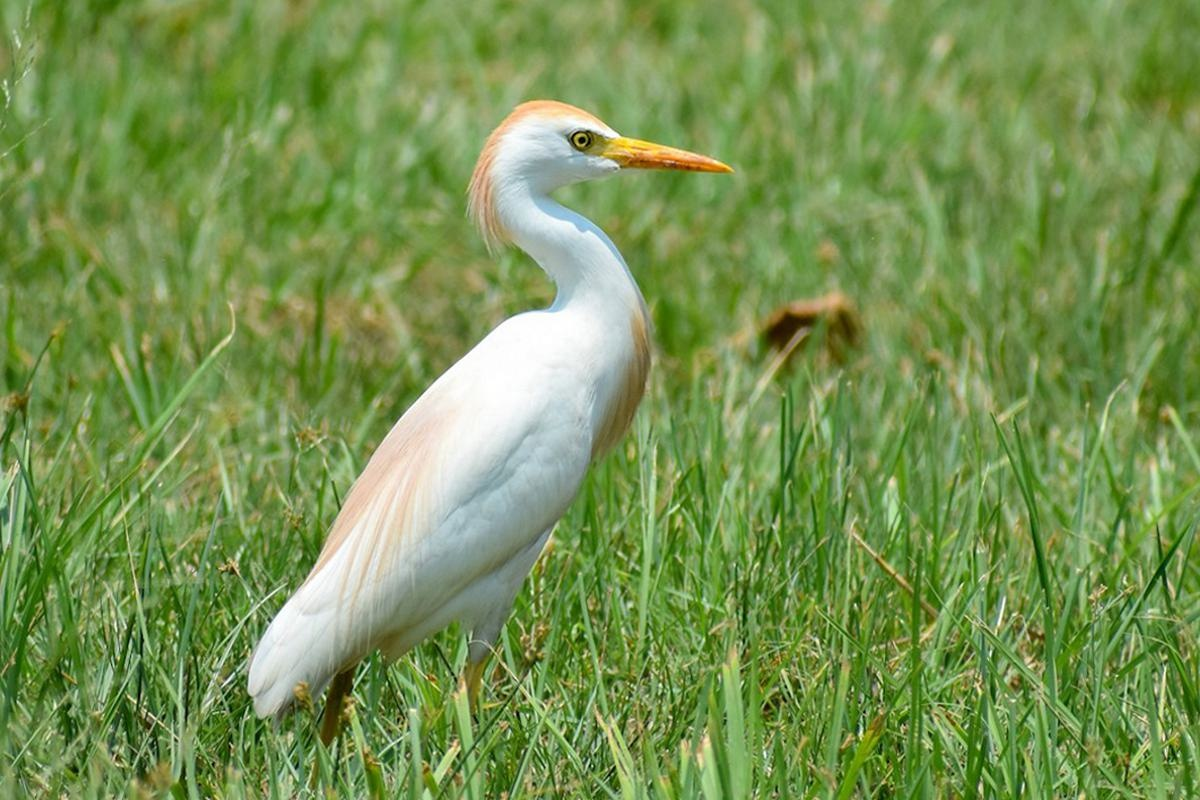egret: (232, 76, 754, 731)
